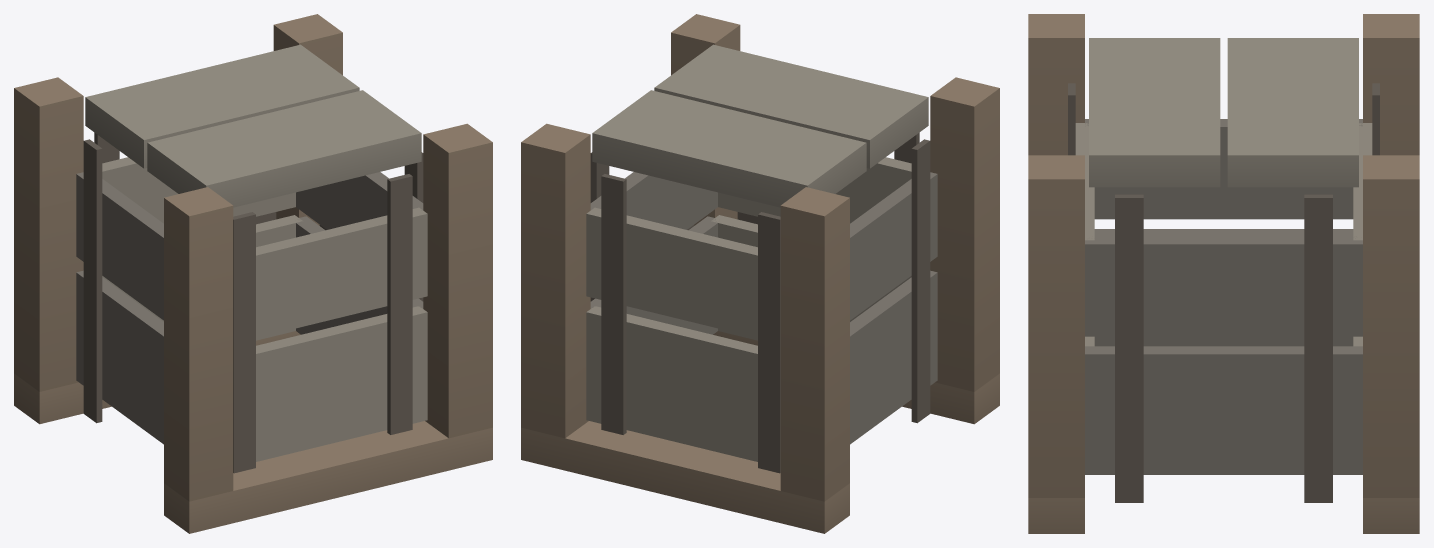
The model's file is push-crate.glb.
3 views of the same model, side by side, from view 1: azimuth 30°, elevation 25°; view 2: azimuth 150°, elevation 25°; view 3: azimuth 270°, elevation 25° (orthographic). The views are drawn at different scales.
Visible parts, largest first — view 1: push-crate; view 2: push-crate; view 3: push-crate.
Part boxes in pixels (<box>): push-crate: <box>14,14,492,533</box>; push-crate: <box>521,14,999,533</box>; push-crate: <box>1028,14,1419,533</box>.
Size of the model in its own units: 0.62 by 0.62 by 0.62.
